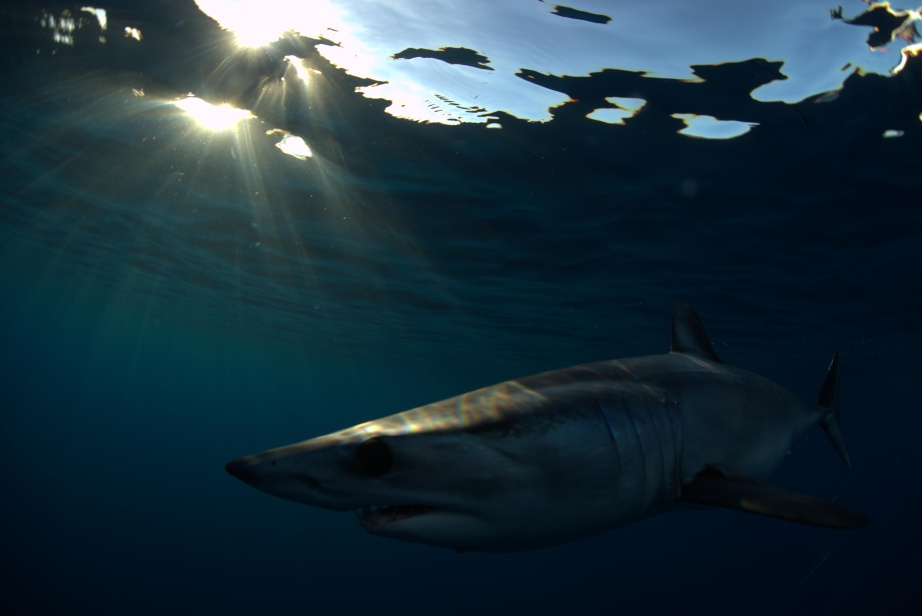Mako: (219, 297, 891, 567)
